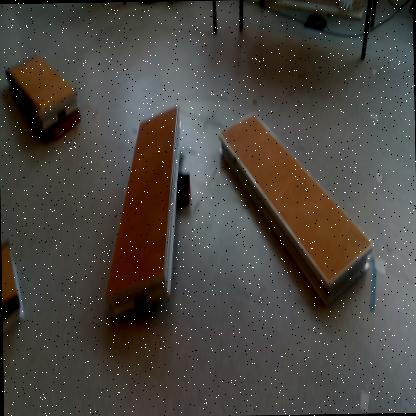Stairs: (219, 112, 375, 312), (105, 103, 182, 324), (8, 54, 81, 135), (2, 239, 26, 335)
